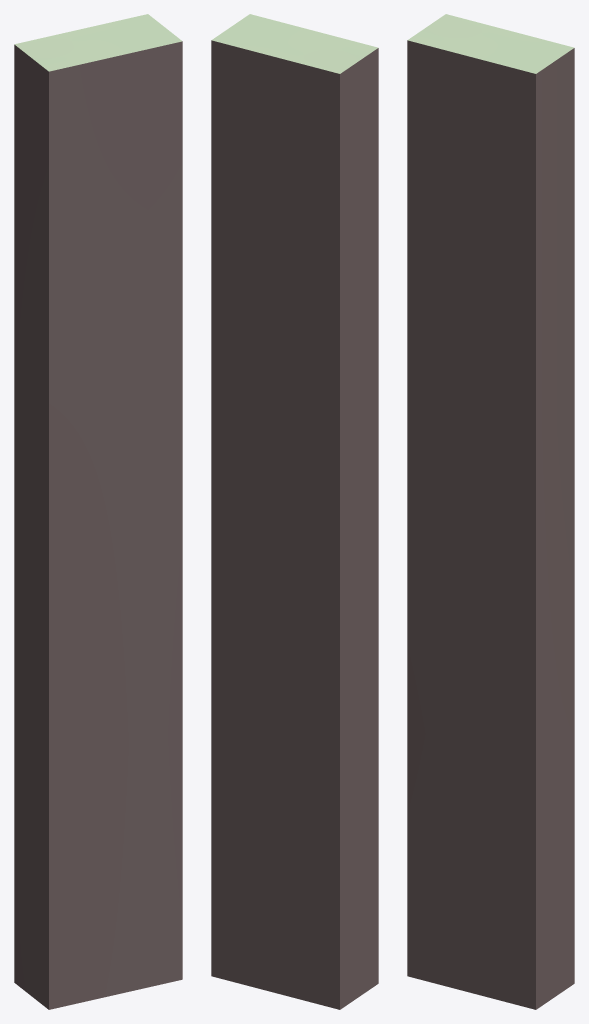
Rendered from Blocks-069.fbx.
3 views of the same model, side by side, from view 1: azimuth 30°, elevation 25°; view 2: azimuth 150°, elevation 25°; view 3: azimuth 330°, elevation 25° (orthographic).
Visible parts, largest first — view 1: Blocks-069; view 2: Blocks-069; view 3: Blocks-069.
Boxes of the visible parts, box(x1,y1,x2,y2) form: Blocks-069: box(14, 14, 182, 1009); Blocks-069: box(211, 14, 378, 1009); Blocks-069: box(407, 14, 574, 1009).
Size of the model in its own units: 4708 by 31634 by 2389.
